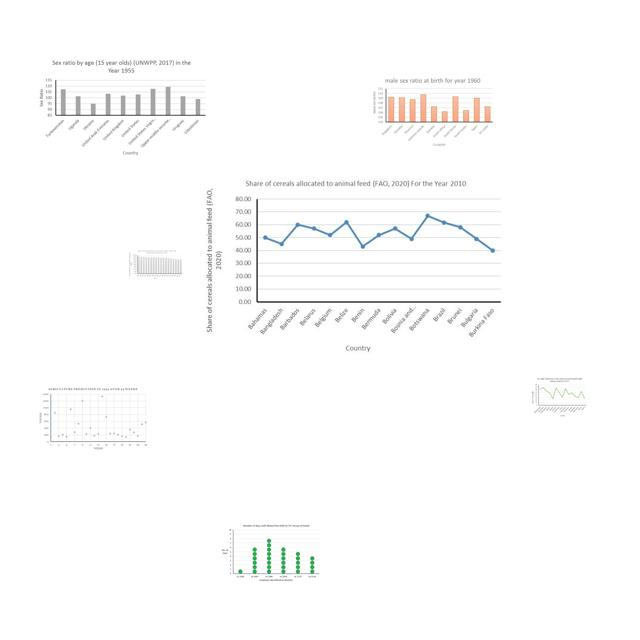Graph: (201, 173, 505, 354), (34, 56, 208, 157), (369, 74, 496, 150), (38, 387, 149, 452), (219, 522, 321, 584), (531, 377, 588, 418), (128, 249, 183, 280)
